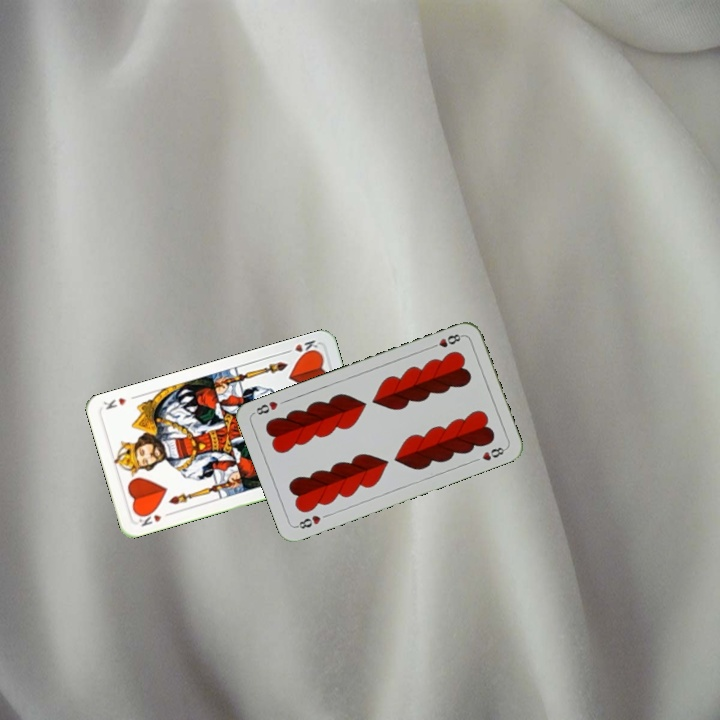H8: (426, 330, 466, 351), (292, 511, 323, 531)
HK: (280, 336, 321, 359), (134, 506, 173, 529)
